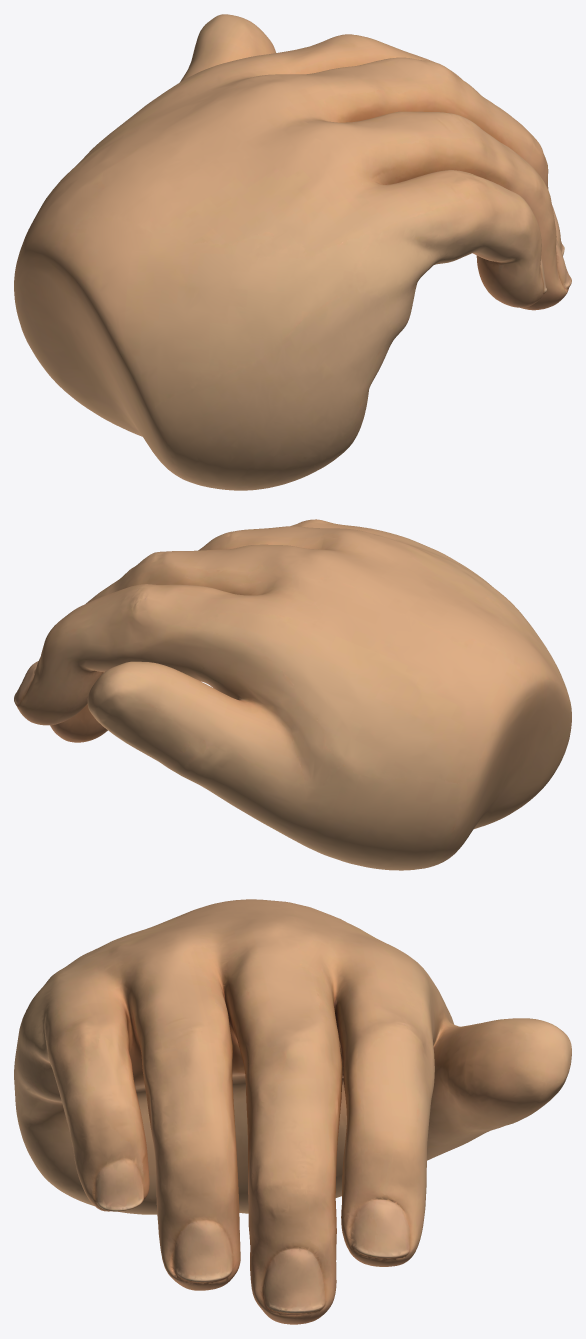
File: jenny-lh.glb
The picture shows the model from 3 angles, top to bottom: view 1: azimuth 30°, elevation 25°; view 2: azimuth 150°, elevation 25°; view 3: azimuth 270°, elevation 25°; orthographic projection. The views are drawn at different scales.
Visible parts, largest first — view 1: tripo_node_560c90d0-b3b9-41cd-a2ec-54cfc765b164; view 2: tripo_node_560c90d0-b3b9-41cd-a2ec-54cfc765b164; view 3: tripo_node_560c90d0-b3b9-41cd-a2ec-54cfc765b164.
Part boxes in pixels (left/top/right/bottom): tripo_node_560c90d0-b3b9-41cd-a2ec-54cfc765b164: left=14, top=14, right=571, bottom=490; tripo_node_560c90d0-b3b9-41cd-a2ec-54cfc765b164: left=14, top=519, right=571, bottom=870; tripo_node_560c90d0-b3b9-41cd-a2ec-54cfc765b164: left=14, top=899, right=571, bottom=1324.
Bounding box in the file's own units: 0.9796 × 0.5765 × 0.8984.
1 material, 1 textured.
